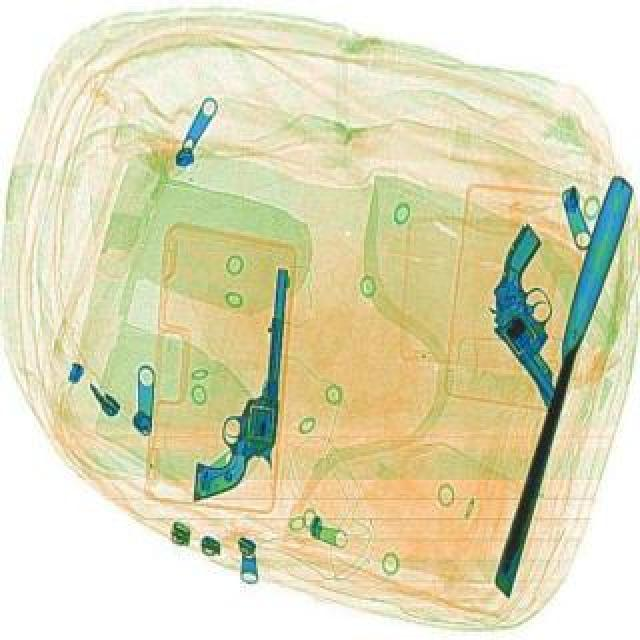gun: (448, 222, 628, 410), (192, 260, 290, 504)
knife: (484, 170, 636, 598)
